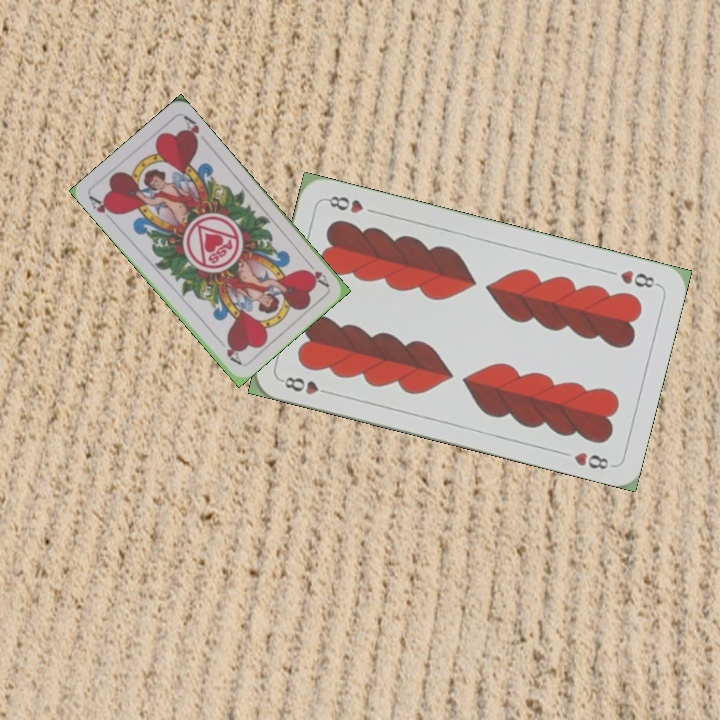H8: (276, 372, 335, 397), (616, 266, 662, 291)
HA: (85, 192, 119, 225), (301, 255, 331, 290)
